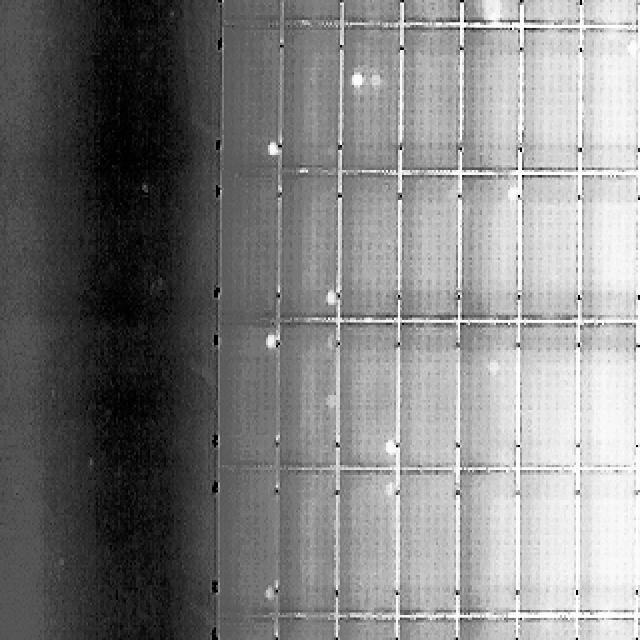Hotspots: (344, 67, 369, 89), (265, 136, 283, 163), (324, 286, 342, 313), (378, 434, 398, 458), (260, 330, 280, 353)
PV-modules: (274, 466, 338, 614), (573, 465, 636, 614), (343, 171, 406, 319), (400, 24, 463, 172), (278, 172, 340, 322), (218, 465, 280, 615), (341, 467, 404, 614), (279, 23, 341, 172), (276, 321, 338, 470), (398, 321, 460, 469), (574, 321, 636, 468), (576, 26, 637, 174), (518, 466, 579, 614), (346, 24, 407, 171), (398, 467, 459, 614), (223, 23, 283, 172), (519, 321, 580, 467), (221, 172, 281, 320), (454, 466, 514, 614), (458, 25, 518, 173), (220, 320, 280, 468), (337, 326, 397, 474), (455, 321, 515, 468), (456, 174, 516, 321), (398, 177, 458, 324), (576, 175, 636, 321), (523, 26, 582, 173), (522, 174, 580, 321), (400, 0, 464, 25), (280, 0, 342, 25), (346, 0, 408, 25), (224, 0, 286, 25), (576, 0, 636, 25), (458, 0, 518, 25), (524, 0, 582, 25), (272, 618, 336, 640), (576, 618, 639, 640), (517, 618, 579, 640), (395, 619, 457, 640), (333, 619, 397, 639), (456, 619, 520, 639), (214, 620, 274, 640), (638, 465, 640, 613), (636, 618, 640, 638)
